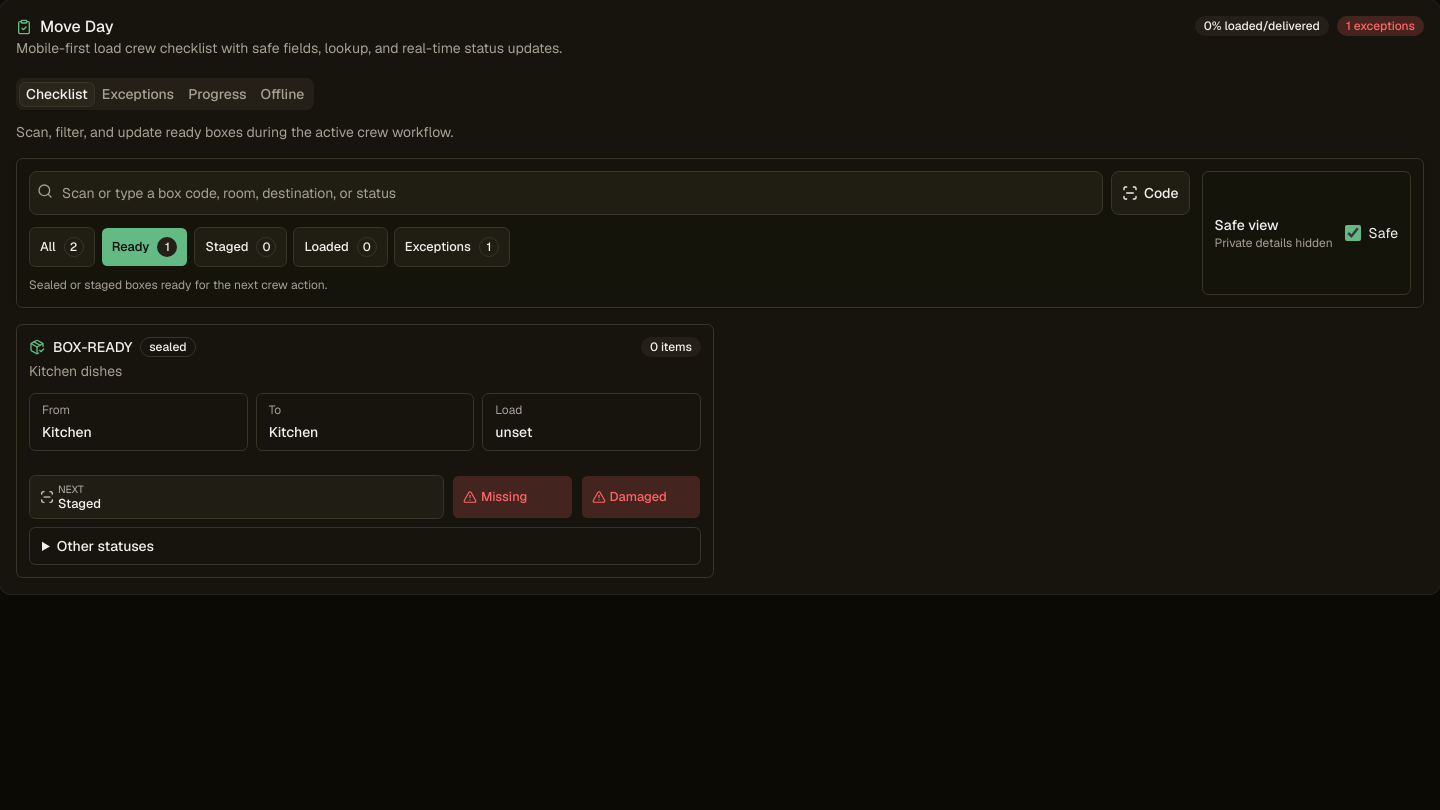
Test: MoveDayView task tabs › opens on checklist work and keeps exceptions, progress, and offline details separate
This screenshot has width=1440, height=810.
Check: the text "Scan, filter, and update ready boxes during the active crew workflow." is shown, box [16,123,453,141]
Check: the field named "Move Day box lookup" is shown, box [29,171,1103,215]
What coordinates should you click on to do the following:
click the heading "Other statuses"
I would click on:
 (105, 546)
Its box is [57,537,154,555].
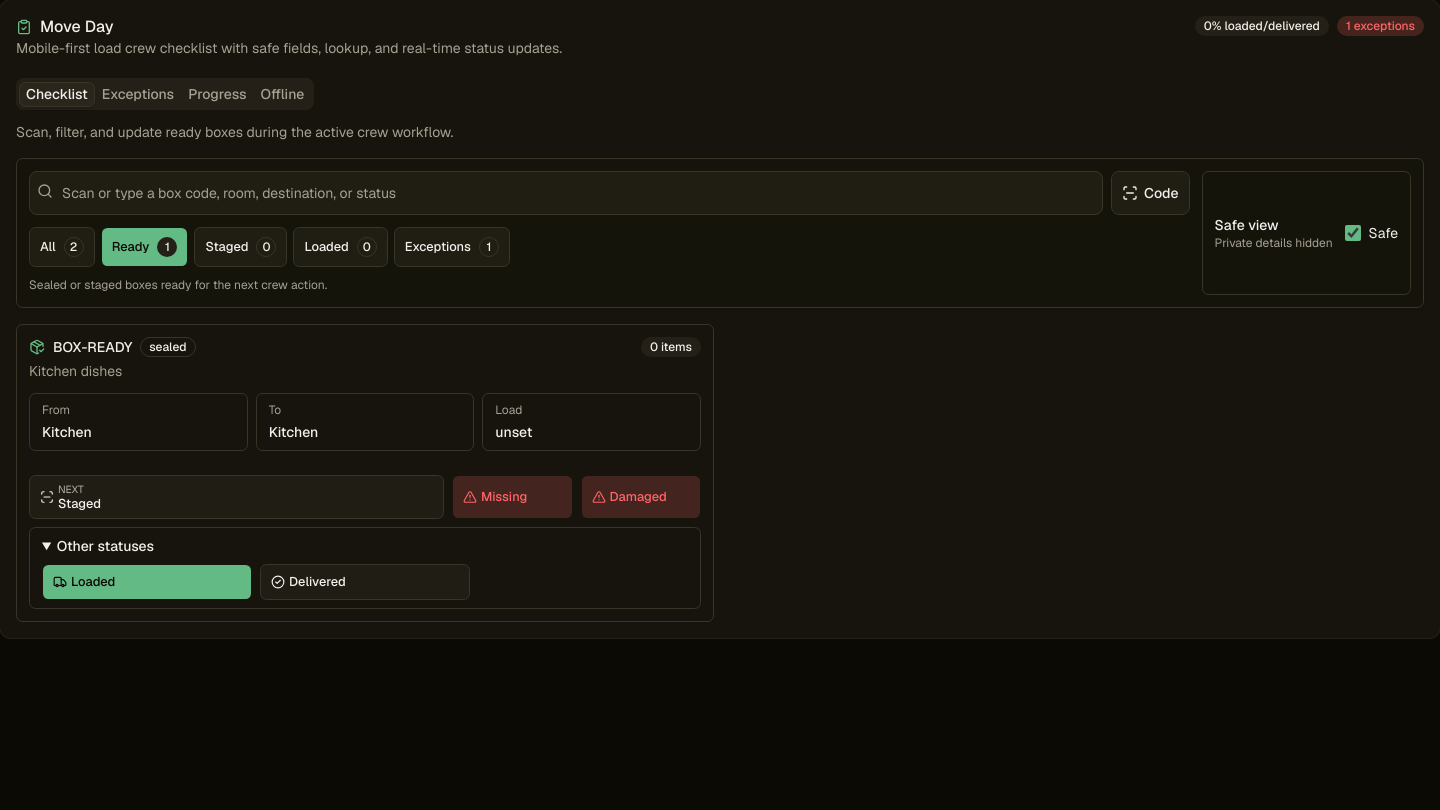
Check: the button "Loaded" is shown, box [42,564,252,600]
What coordinates should you click on to do the following:
click the button with aria-label "All: 2 boxes"
I would click on:
 (62, 247)
Its box is [29,227,95,267].
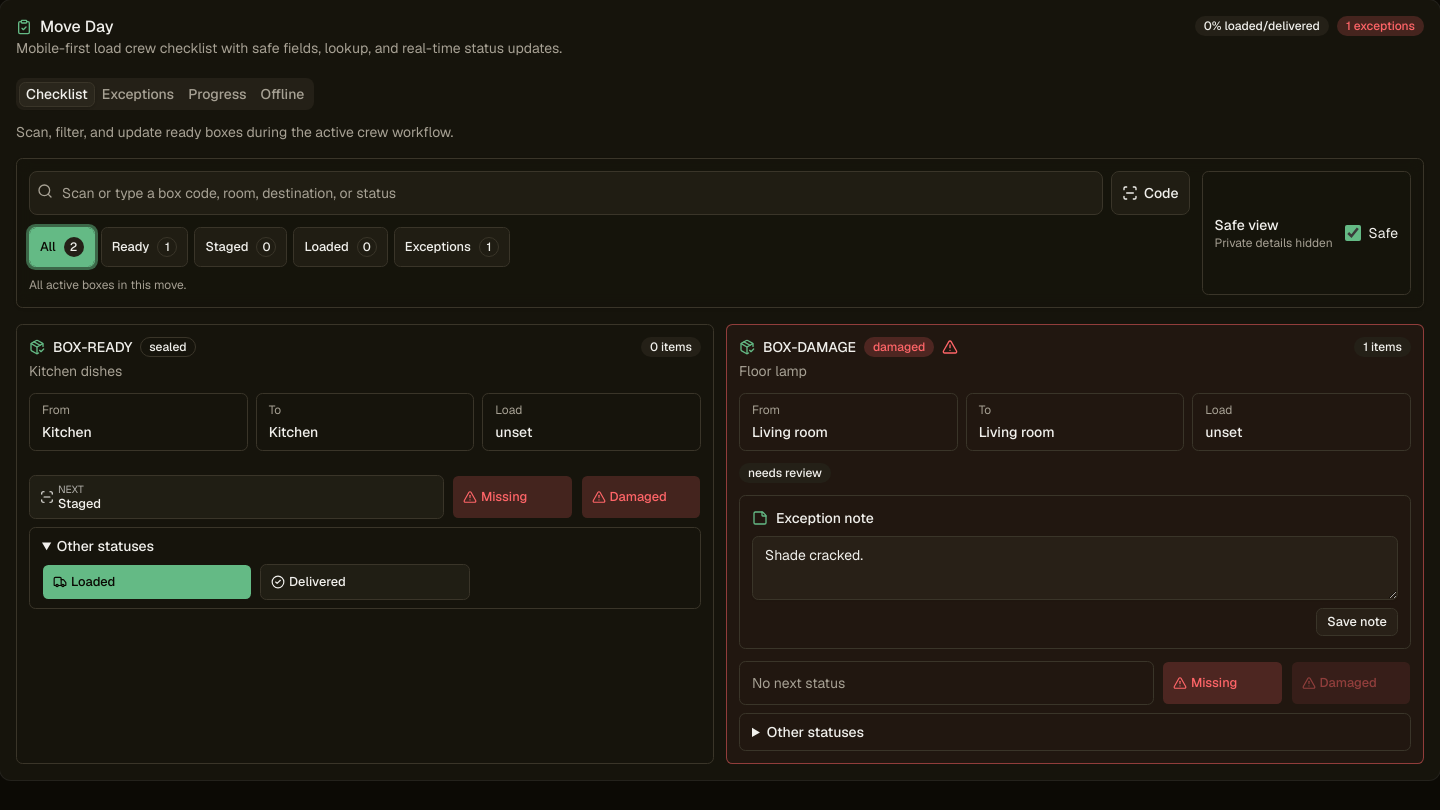
Check: the text "BOX-READY" is shown, box [53,337,132,357]
Check: the text "All active boxes in this move." is shown, box [29,277,186,293]
Check: the text "BOX-DAMAGE" is shown, box [763,337,856,357]
What coordinates should you click on to do the following:
click the tab "Exceptions"
I would click on:
 (138, 94)
Its box is [95,82,181,106].
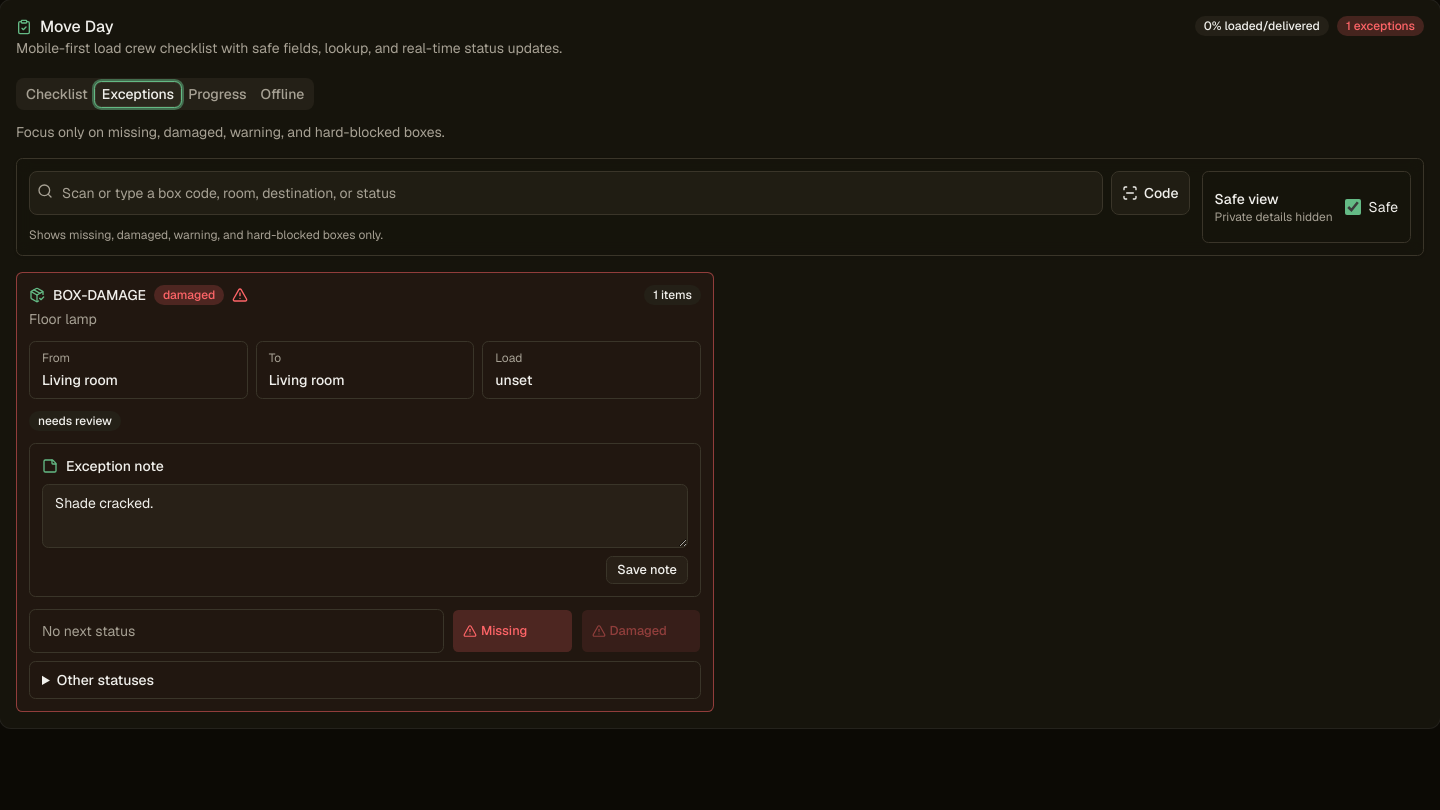
Check: the text "BOX-DAMAGE" is shown, box [53,285,146,305]
Check: the text "needs review" is shown, box [29,411,121,431]
Check: the text "Focus only on missing, damaged, warning, and hard-blocked boxes." is shown, box [16,123,445,141]
What coordinates should you click on to do the following:
click the tab "Progress"
I would click on:
 (217, 94)
Its box is [181,82,254,106].
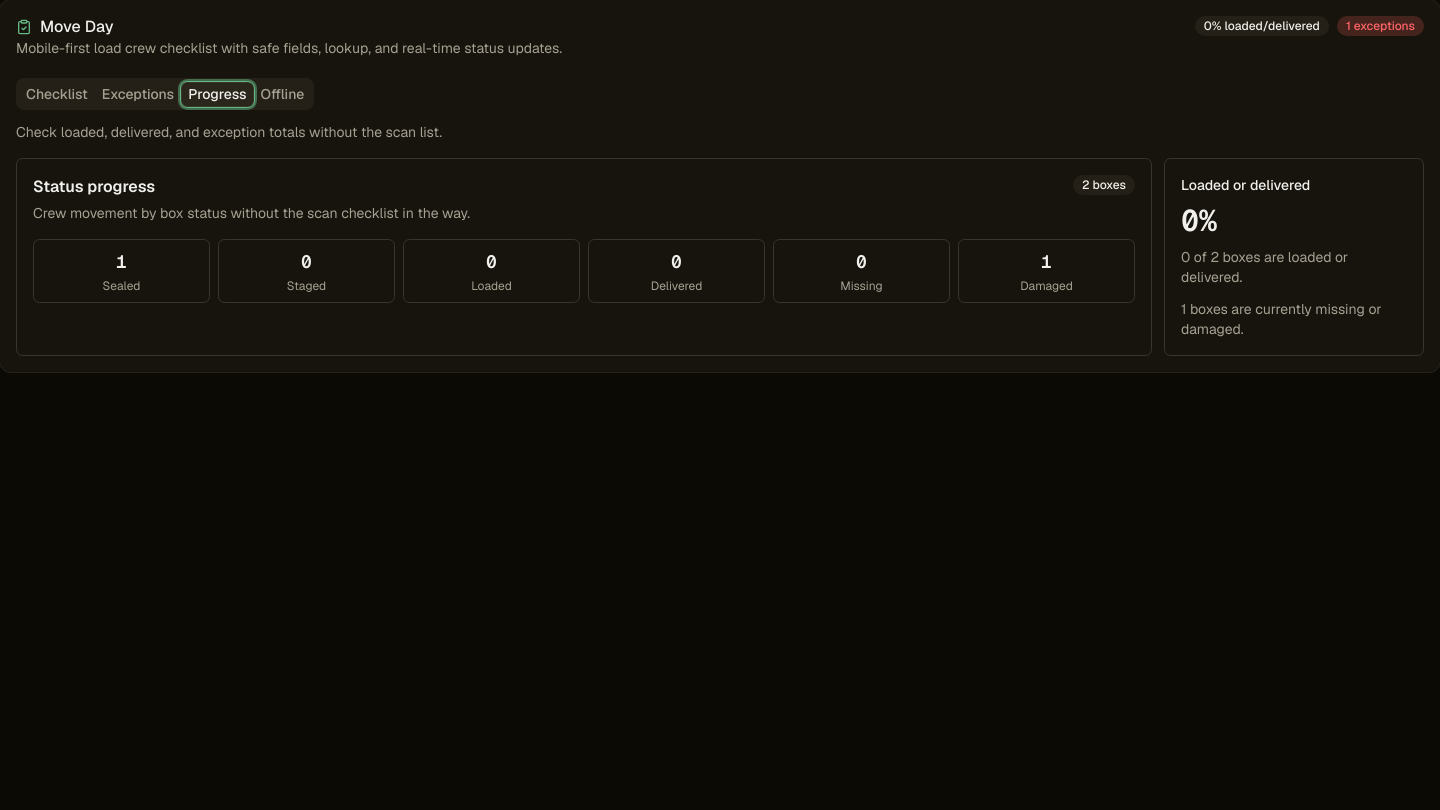
Check: the text "Check loaded, delivered, and exception totals without the scan list." is shown, box [16,123,442,141]
Check: the heading "Status progress" is shown, box [33,176,155,197]
Check: the text "2 boxes" is shown, box [1073,175,1135,195]
What coordinates should you click on to do the following:
click the tab "Offline"
I would click on:
 (282, 94)
Its box is [254,82,311,106].
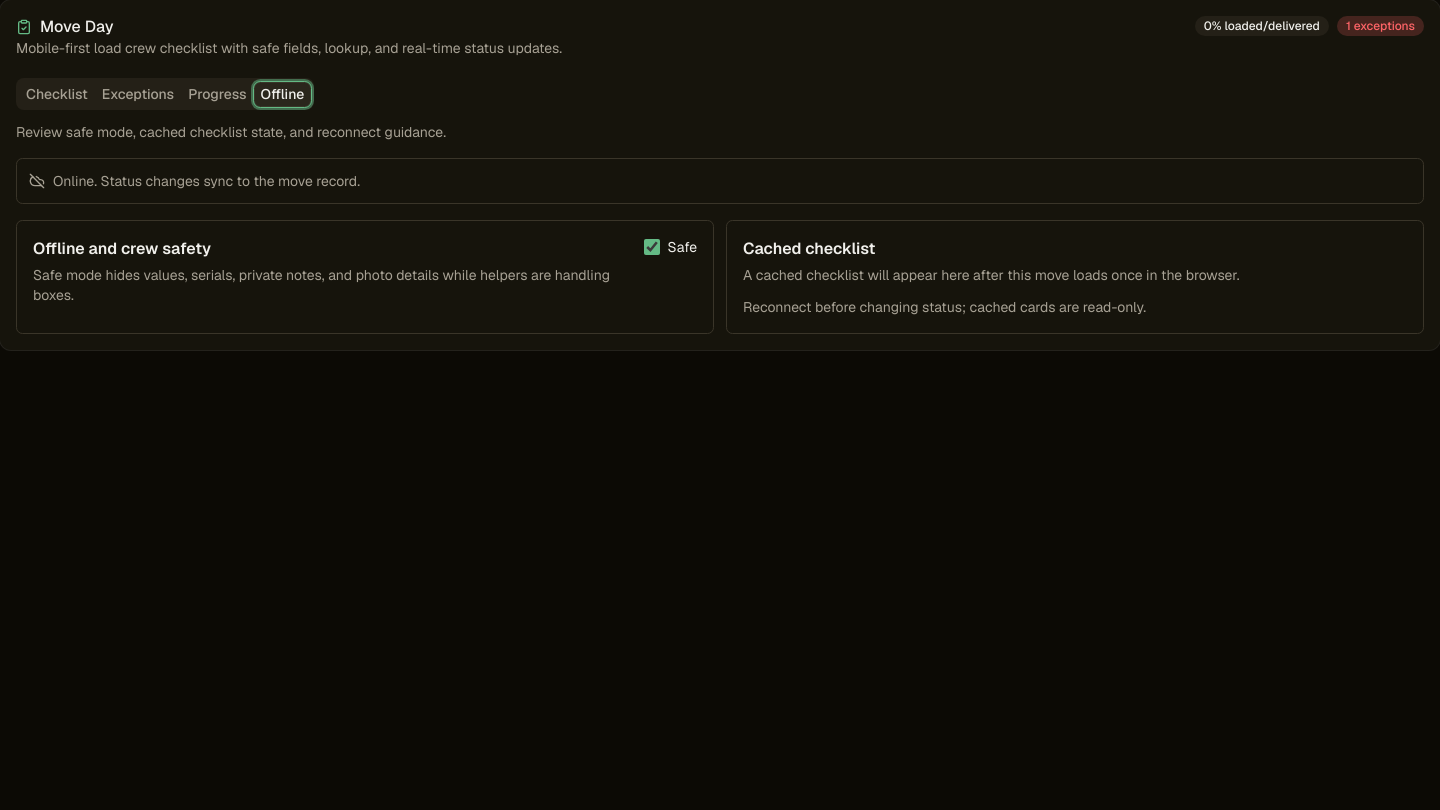
Check: the heading "Offline and crew safety" is shown, box [33,238,211,259]
Check: the heading "Cached checklist" is shown, box [743,238,875,259]
Check: the text "Online. Status changes sync to the move record." is shown, box [29,171,360,191]
